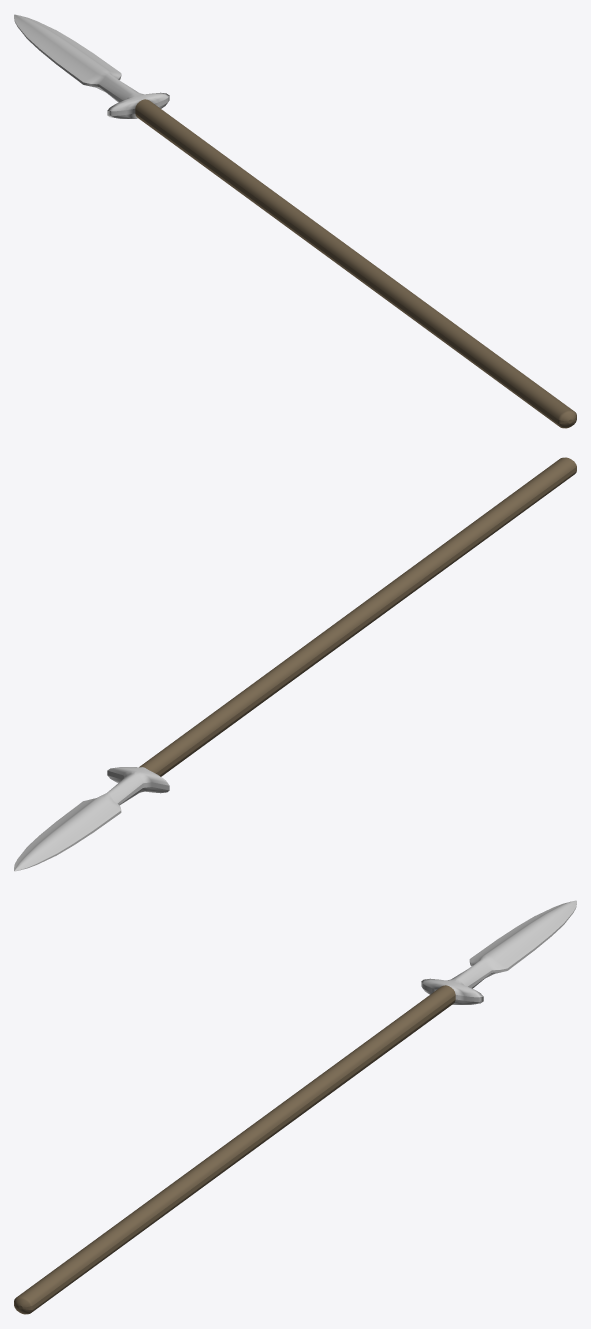
Rendered from spear01.fbx.
3 renders of one model, top to bottom at view 1: azimuth 30°, elevation 25°; view 2: azimuth 150°, elevation 25°; view 3: azimuth 330°, elevation 25°, orthographic.
Visible parts, largest first — view 1: pCube1; view 2: pCube1; view 3: pCube1.
Part boxes in pixels (<box>): pCube1: <box>14,14,576,428</box>; pCube1: <box>14,457,576,871</box>; pCube1: <box>14,900,576,1314</box>.
Size of the model in its own units: 0.6196 by 0.1793 by 9.56.
